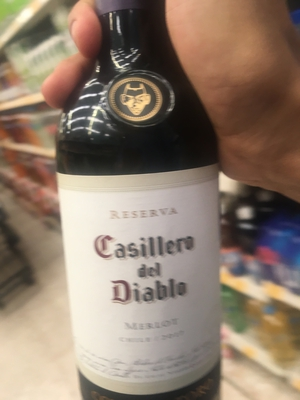casillero del diablo merlot: (48, 15, 225, 400)
